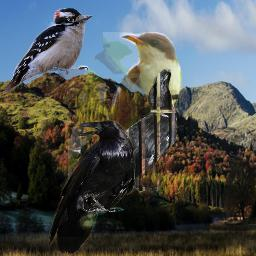Crow: (49, 120, 136, 256), (105, 69, 177, 191)
Cuckoo: (68, 32, 182, 238)
Woodpecker: (5, 8, 93, 93)
